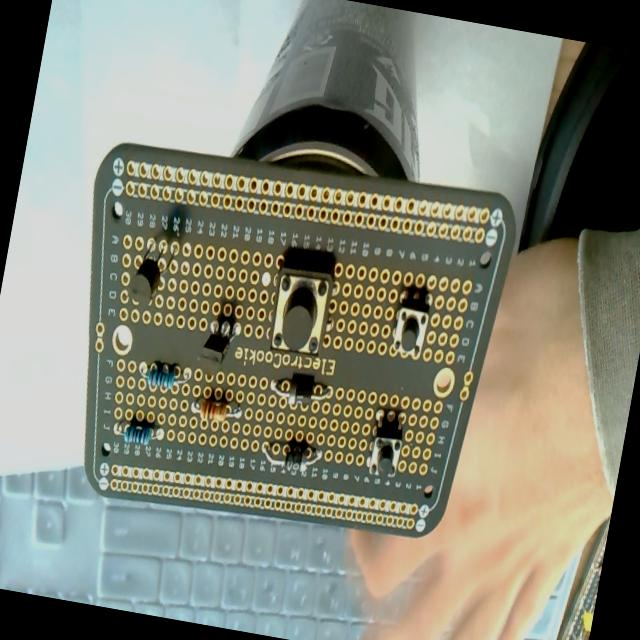diode: (260, 436, 324, 479), (267, 372, 332, 413)
resistor: (192, 392, 244, 426), (146, 360, 178, 394), (122, 417, 153, 448)
switch: (264, 256, 337, 360), (364, 408, 407, 480), (388, 292, 432, 362)
transistor: (124, 230, 175, 311), (195, 308, 238, 377)
